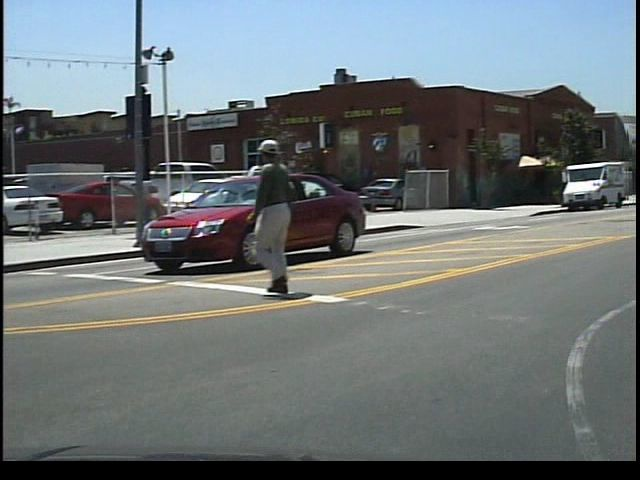person: (250, 137, 328, 303)
